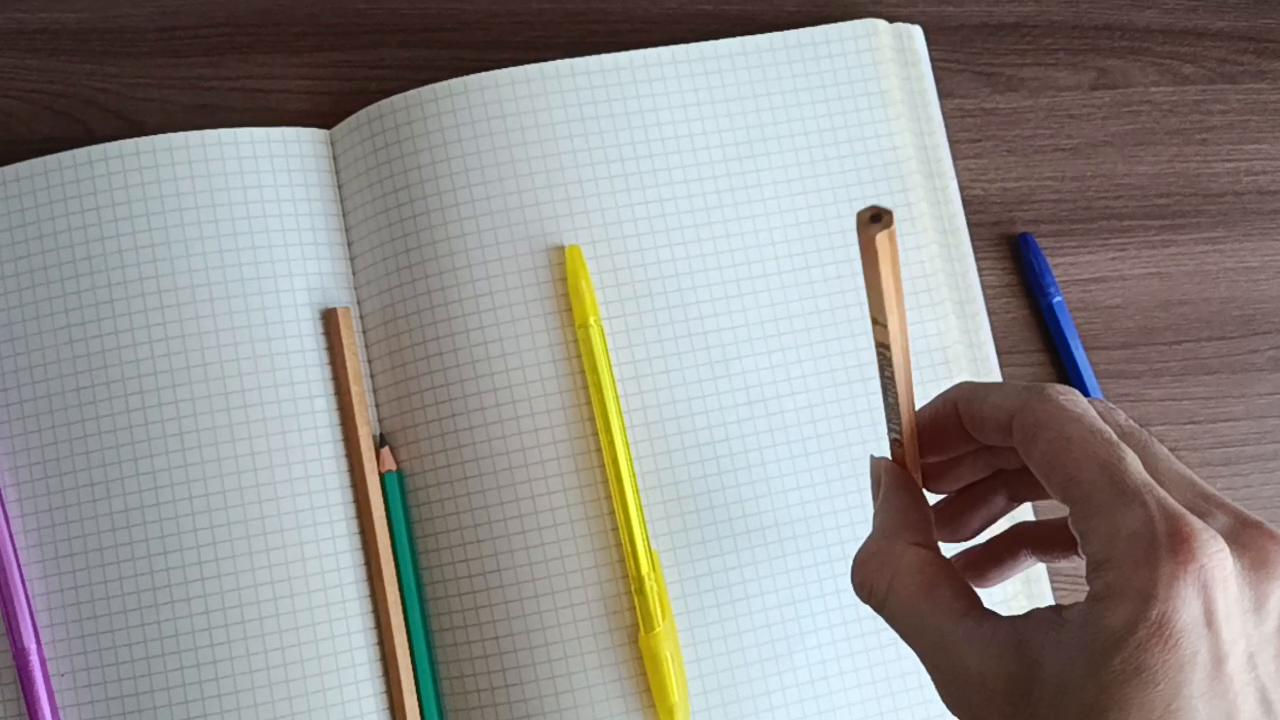pen: (556, 239, 696, 720), (1010, 225, 1120, 430), (0, 478, 73, 719)
pencil: (313, 306, 421, 720), (850, 200, 932, 504), (374, 426, 443, 720)
